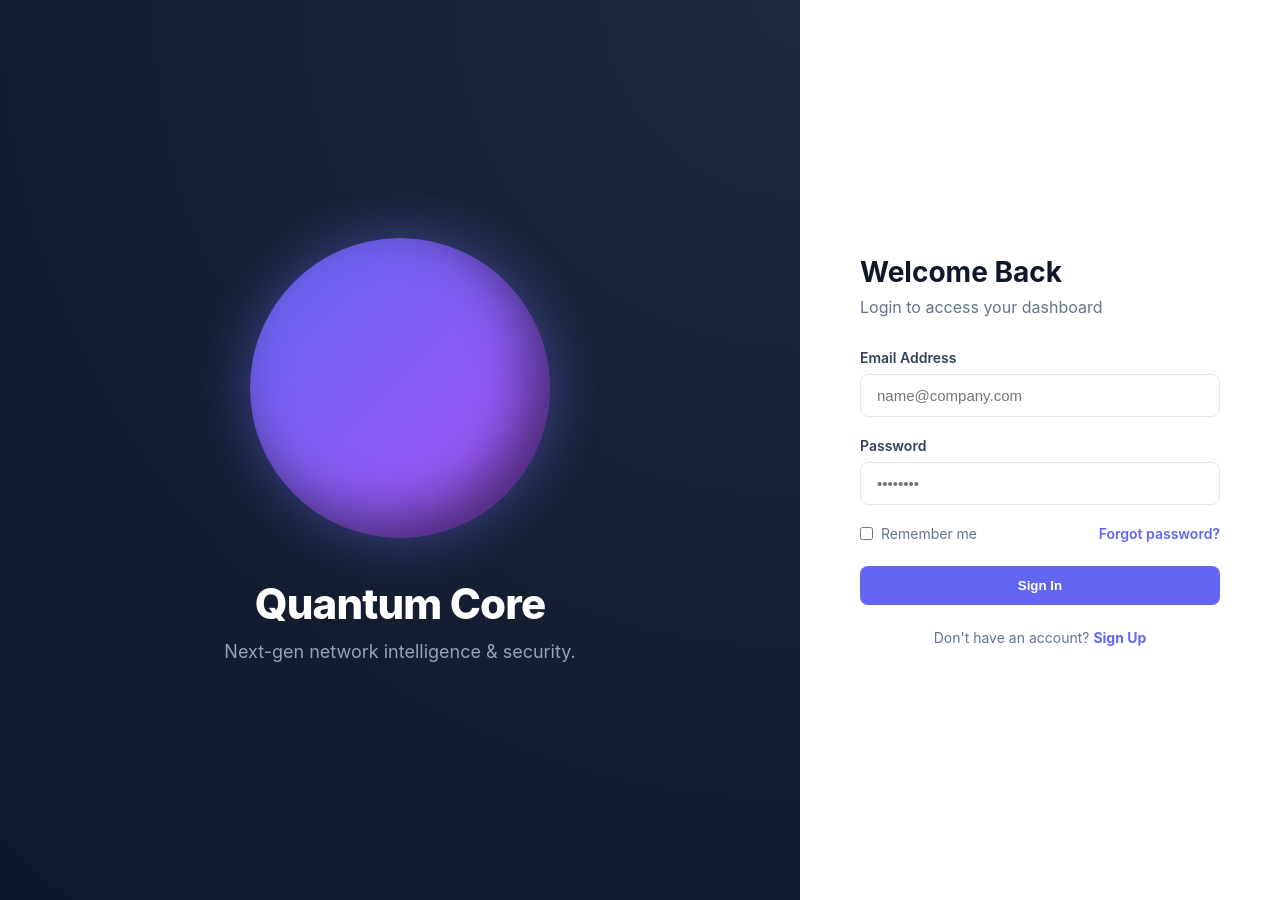
Login Component › shows validation error for invalid email
Type "invalidemail" into the field with placeholder "name@company.com" at (1040, 395), box [860,374,1220,416]
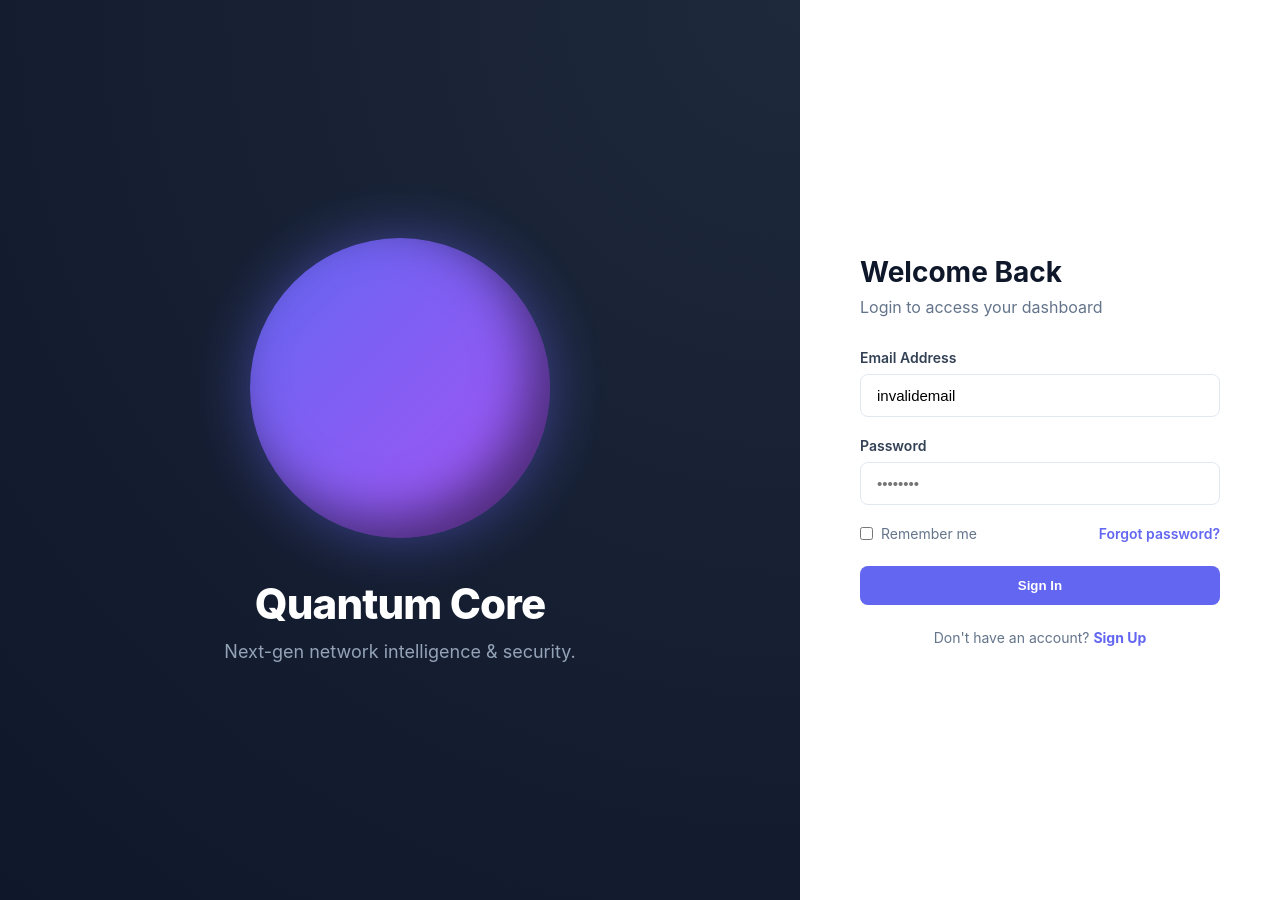
Type "password123" into the password field with placeholder "••••••••" at (1040, 483), box [860,462,1220,504]
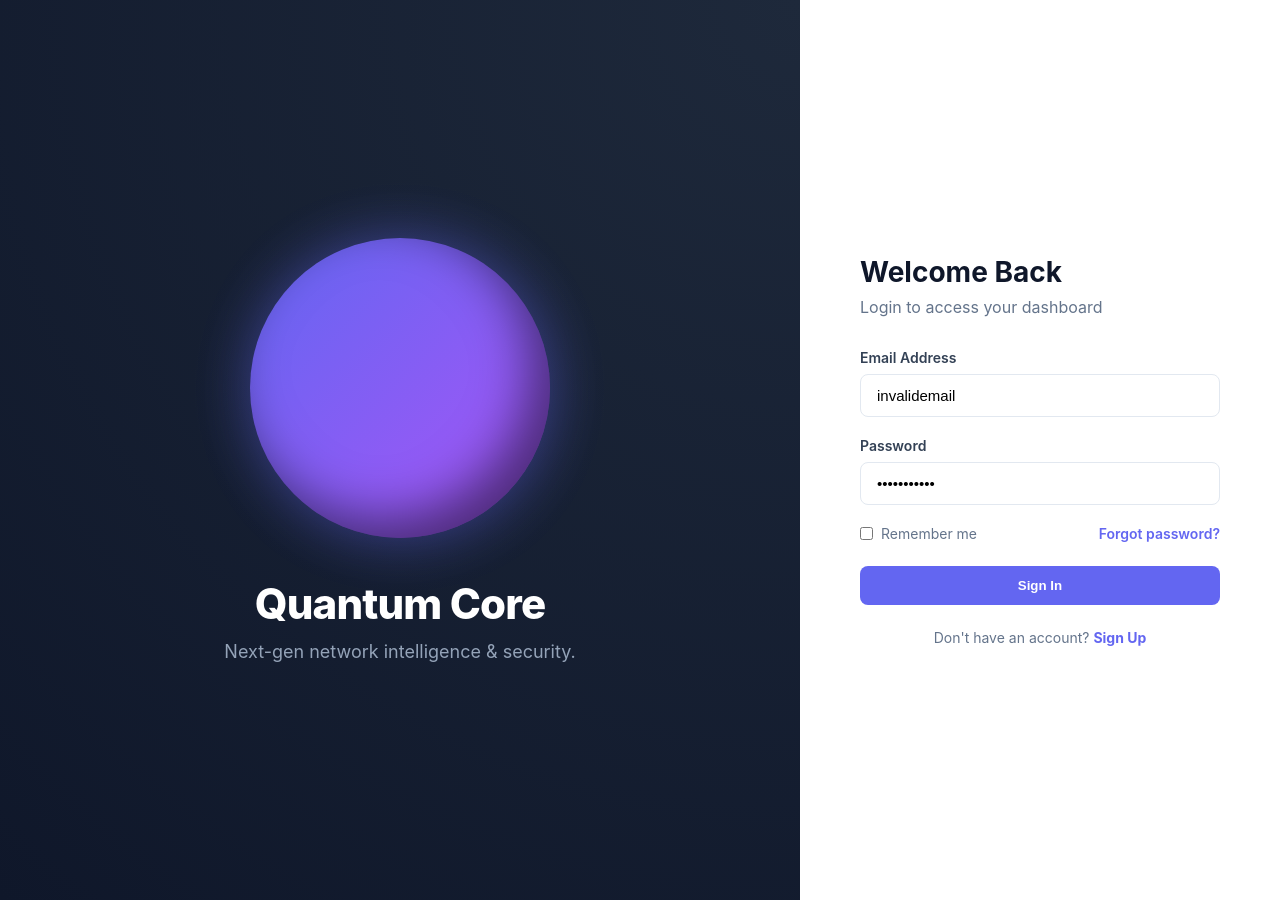
Click the button "Sign In" at (1040, 585), box [860,566,1220,604]
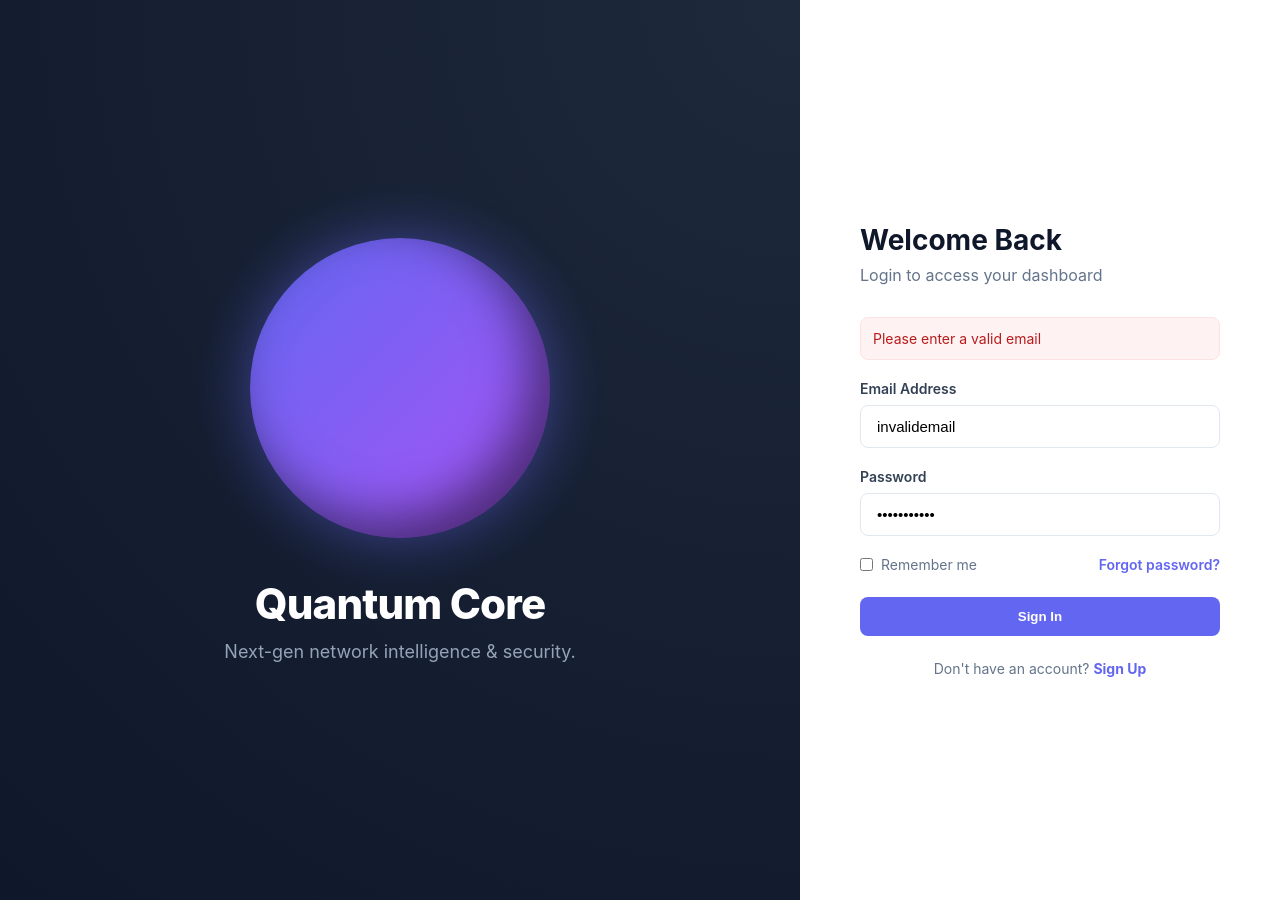
Result: the text "Please enter a valid email" is shown at [860,317,1220,360]
